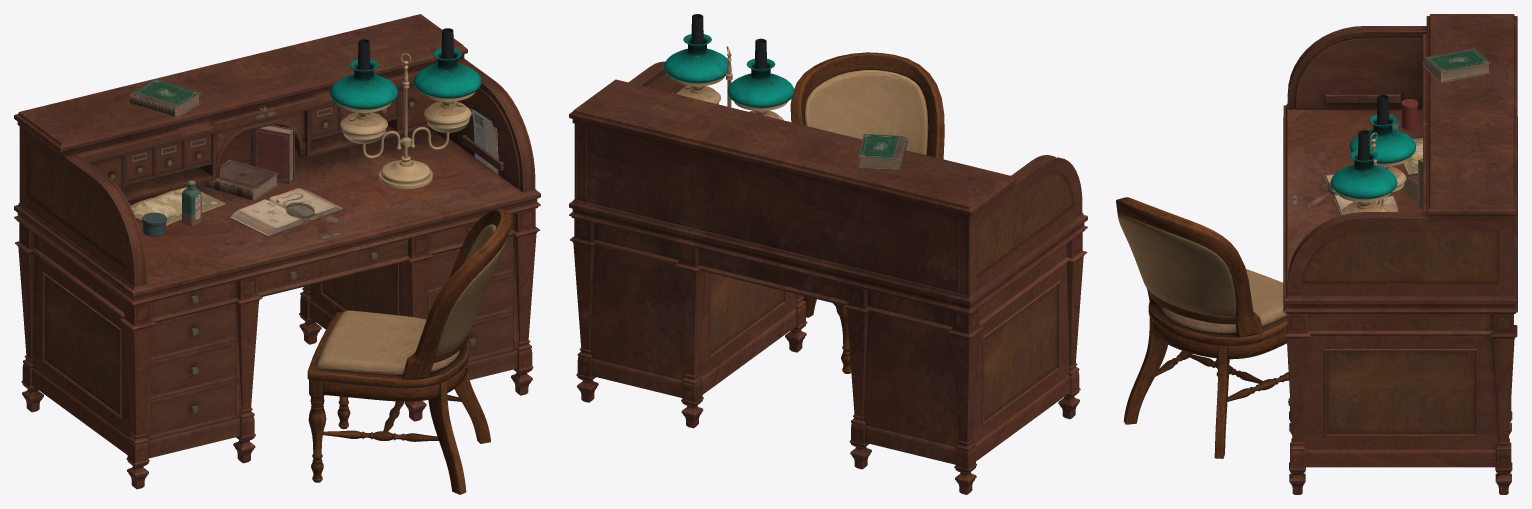
The model's file is antique_desk.glb.
The picture shows the model from 3 angles, left to right: view 1: azimuth 30°, elevation 25°; view 2: azimuth 150°, elevation 25°; view 3: azimuth 270°, elevation 25°; orthographic projection.
Visible parts, largest first — view 1: Table_Table_0, Chair_Chair_0, Lamp_Lamp_0, Open_book_Open_book_Mat_0, Book_3_Book_3_Mat_0, Book_1_Book_1_Mat_0, Book_2_Book_2_Mat_0, Note_3_Note_3_0, Bottle_Bottle_0, Magnifier_Magnifier_0; view 2: Table_Table_0, Chair_Chair_0, Lamp_Lamp_0, Book_2_Book_2_Mat_0; view 3: Table_Table_0, Chair_Chair_0, Lamp_Lamp_0, Book_2_Book_2_Mat_0, Open_book_Open_book_Mat_0, Jar_1_Jar_0.
Part boxes in pixels (box(x1,y1,x2,y2)): Table_Table_0: box(14, 14, 540, 489); Chair_Chair_0: box(307, 209, 511, 494); Lamp_Lamp_0: box(330, 28, 481, 189); Open_book_Open_book_Mat_0: box(228, 188, 345, 236); Book_3_Book_3_Mat_0: box(250, 125, 294, 184); Book_1_Book_1_Mat_0: box(203, 160, 278, 201); Book_2_Book_2_Mat_0: box(129, 79, 200, 117); Note_3_Note_3_0: box(130, 187, 225, 225); Bottle_Bottle_0: box(182, 180, 201, 226); Magnifier_Magnifier_0: box(286, 202, 346, 225); Table_Table_0: box(569, 61, 1087, 494); Chair_Chair_0: box(790, 52, 944, 373); Lamp_Lamp_0: box(664, 14, 794, 120); Book_2_Book_2_Mat_0: box(858, 134, 907, 169); Table_Table_0: box(1283, 14, 1517, 494); Chair_Chair_0: box(1116, 197, 1288, 458); Lamp_Lamp_0: box(1330, 94, 1416, 215); Book_2_Book_2_Mat_0: box(1422, 47, 1490, 82); Open_book_Open_book_Mat_0: box(1322, 174, 1399, 215); Jar_1_Jar_0: box(1401, 99, 1418, 130).
Bounding box in the file's own units: 1.62 × 1.32 × 1.41.
15 materials, 15 textured.
